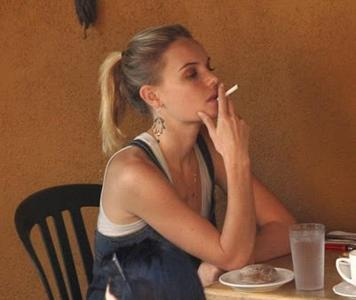person: (89, 24, 304, 300)
